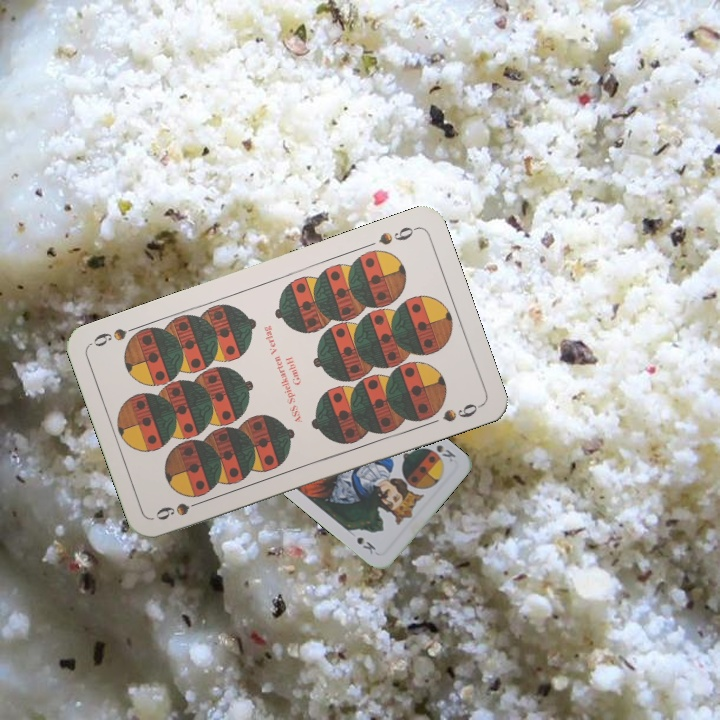S9: (152, 495, 209, 523), (374, 222, 420, 248)
SK: (432, 441, 458, 465)
